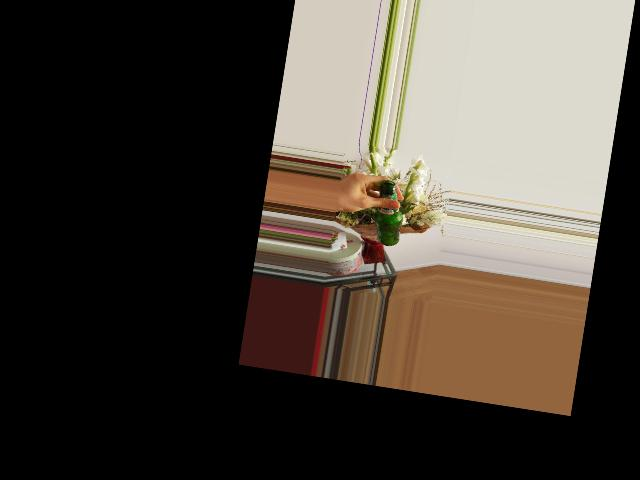beer: (369, 179, 408, 248)
